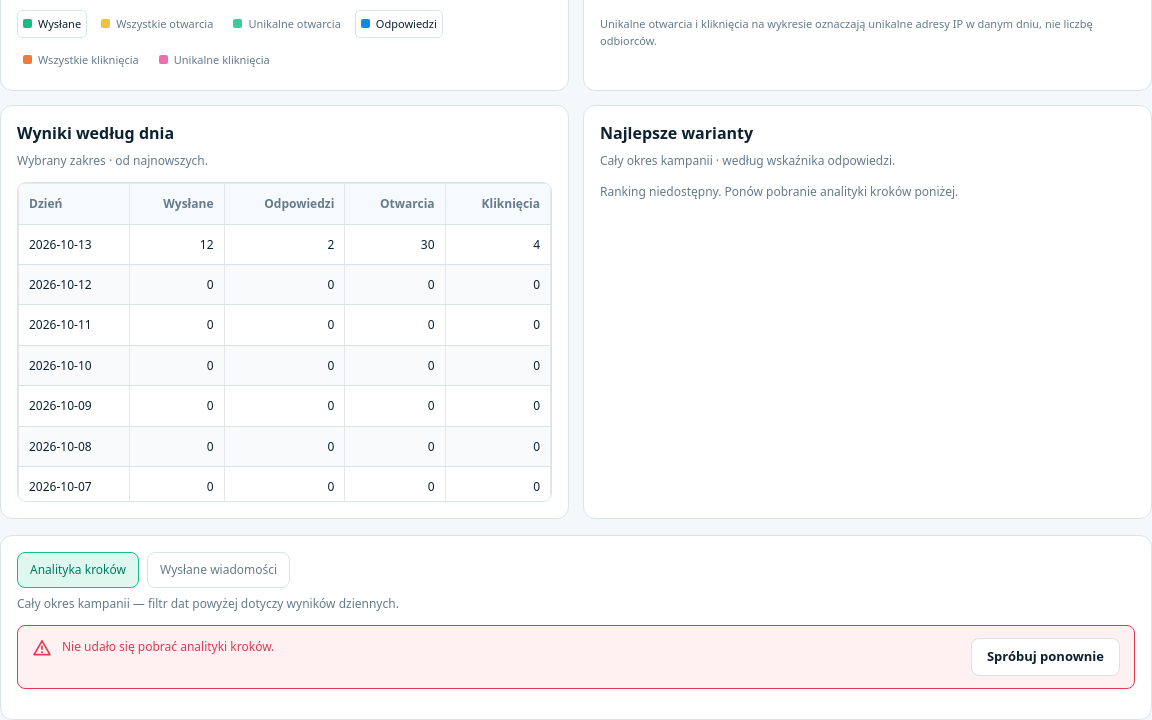
Test: keeps step failures separate from daily analytics and allows retry
(page scrolled)
Expected: the heading "Wyniki według dnia" is shown, x1=17 y1=122 x2=174 y2=144
Expected: the message "Nie udało się pobrać analityki kroków. Spróbuj ponownie" is shown, x1=17 y1=625 x2=1135 y2=689
Click the button "Spróbuj ponownie". click: (1045, 657)
box: x1=971 y1=638 x2=1120 y2=676
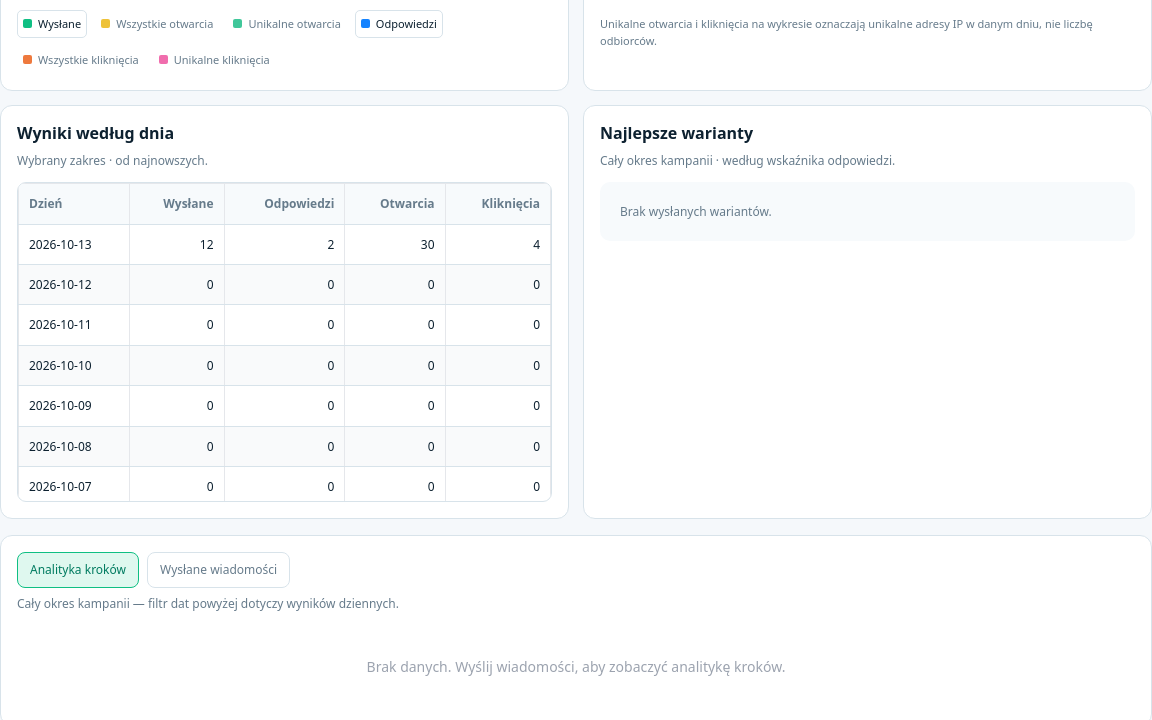
Expected: the message "Nie udało się pobrać analityki kroków. Spróbuj ponownie" is gone
Expected: the text "Brak danych. Wyślij" is shown, x1=367 y1=657 x2=786 y2=676
